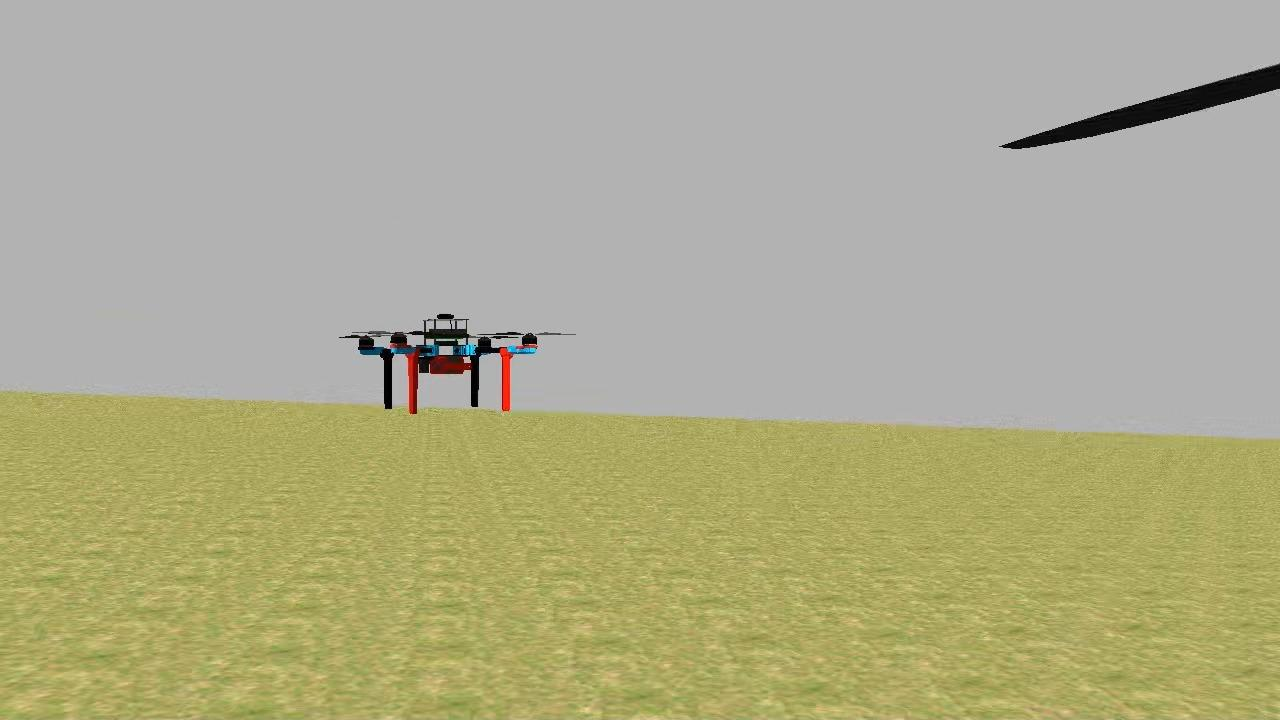UAV: (348, 306, 544, 414)
